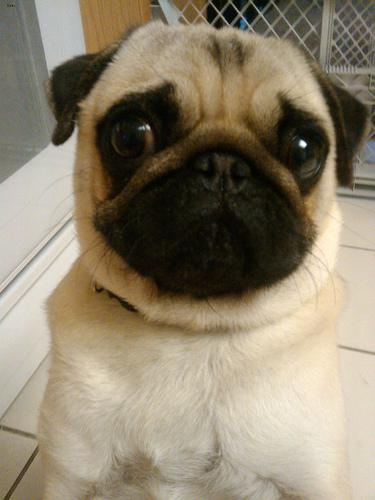dog-pug: (46, 18, 369, 293)
